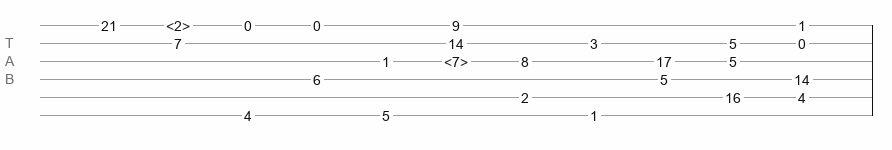0: (244, 18, 252, 28), (313, 18, 321, 28), (798, 36, 806, 46)
1: (382, 54, 390, 64), (590, 108, 598, 118), (798, 18, 806, 28)
14: (448, 36, 464, 46), (794, 72, 810, 82)
16: (725, 90, 741, 100)
17: (656, 54, 672, 64)
2: (521, 90, 529, 100)
21: (101, 18, 117, 28)
3: (590, 36, 598, 46)
4: (244, 108, 252, 118), (798, 90, 806, 100)
5: (382, 108, 390, 118), (660, 72, 668, 82), (729, 36, 737, 46), (729, 54, 737, 64)
6: (313, 72, 321, 82)
7: (174, 36, 182, 46)
8: (521, 54, 529, 64)
9: (452, 18, 460, 28)
harmonic: (166, 18, 190, 28), (444, 54, 468, 64)
